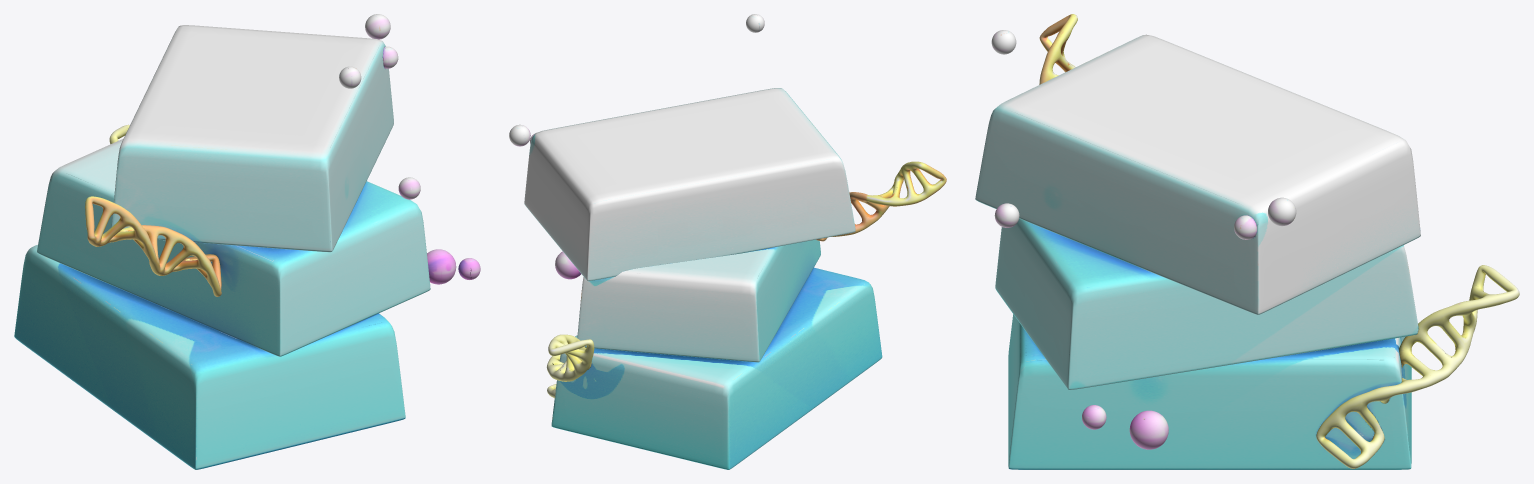
File: borzoi_centered.glb
3 views of the same model, side by side, from view 1: azimuth 30°, elevation 25°; view 2: azimuth 150°, elevation 25°; view 3: azimuth 270°, elevation 25° (orthographic). The views are drawn at different scales.
Visible parts, largest first — view 1: jelly.002; view 2: jelly.002; view 3: jelly.002.
Part boxes in pixels (box(x1,y1,x2,y2)): jelly.002: box(14, 14, 480, 469); jelly.002: box(509, 14, 946, 469); jelly.002: box(975, 14, 1519, 469).
Bounding box in the file's own units: 3.92 × 3.34 × 4.03.
1 material, 1 textured.
